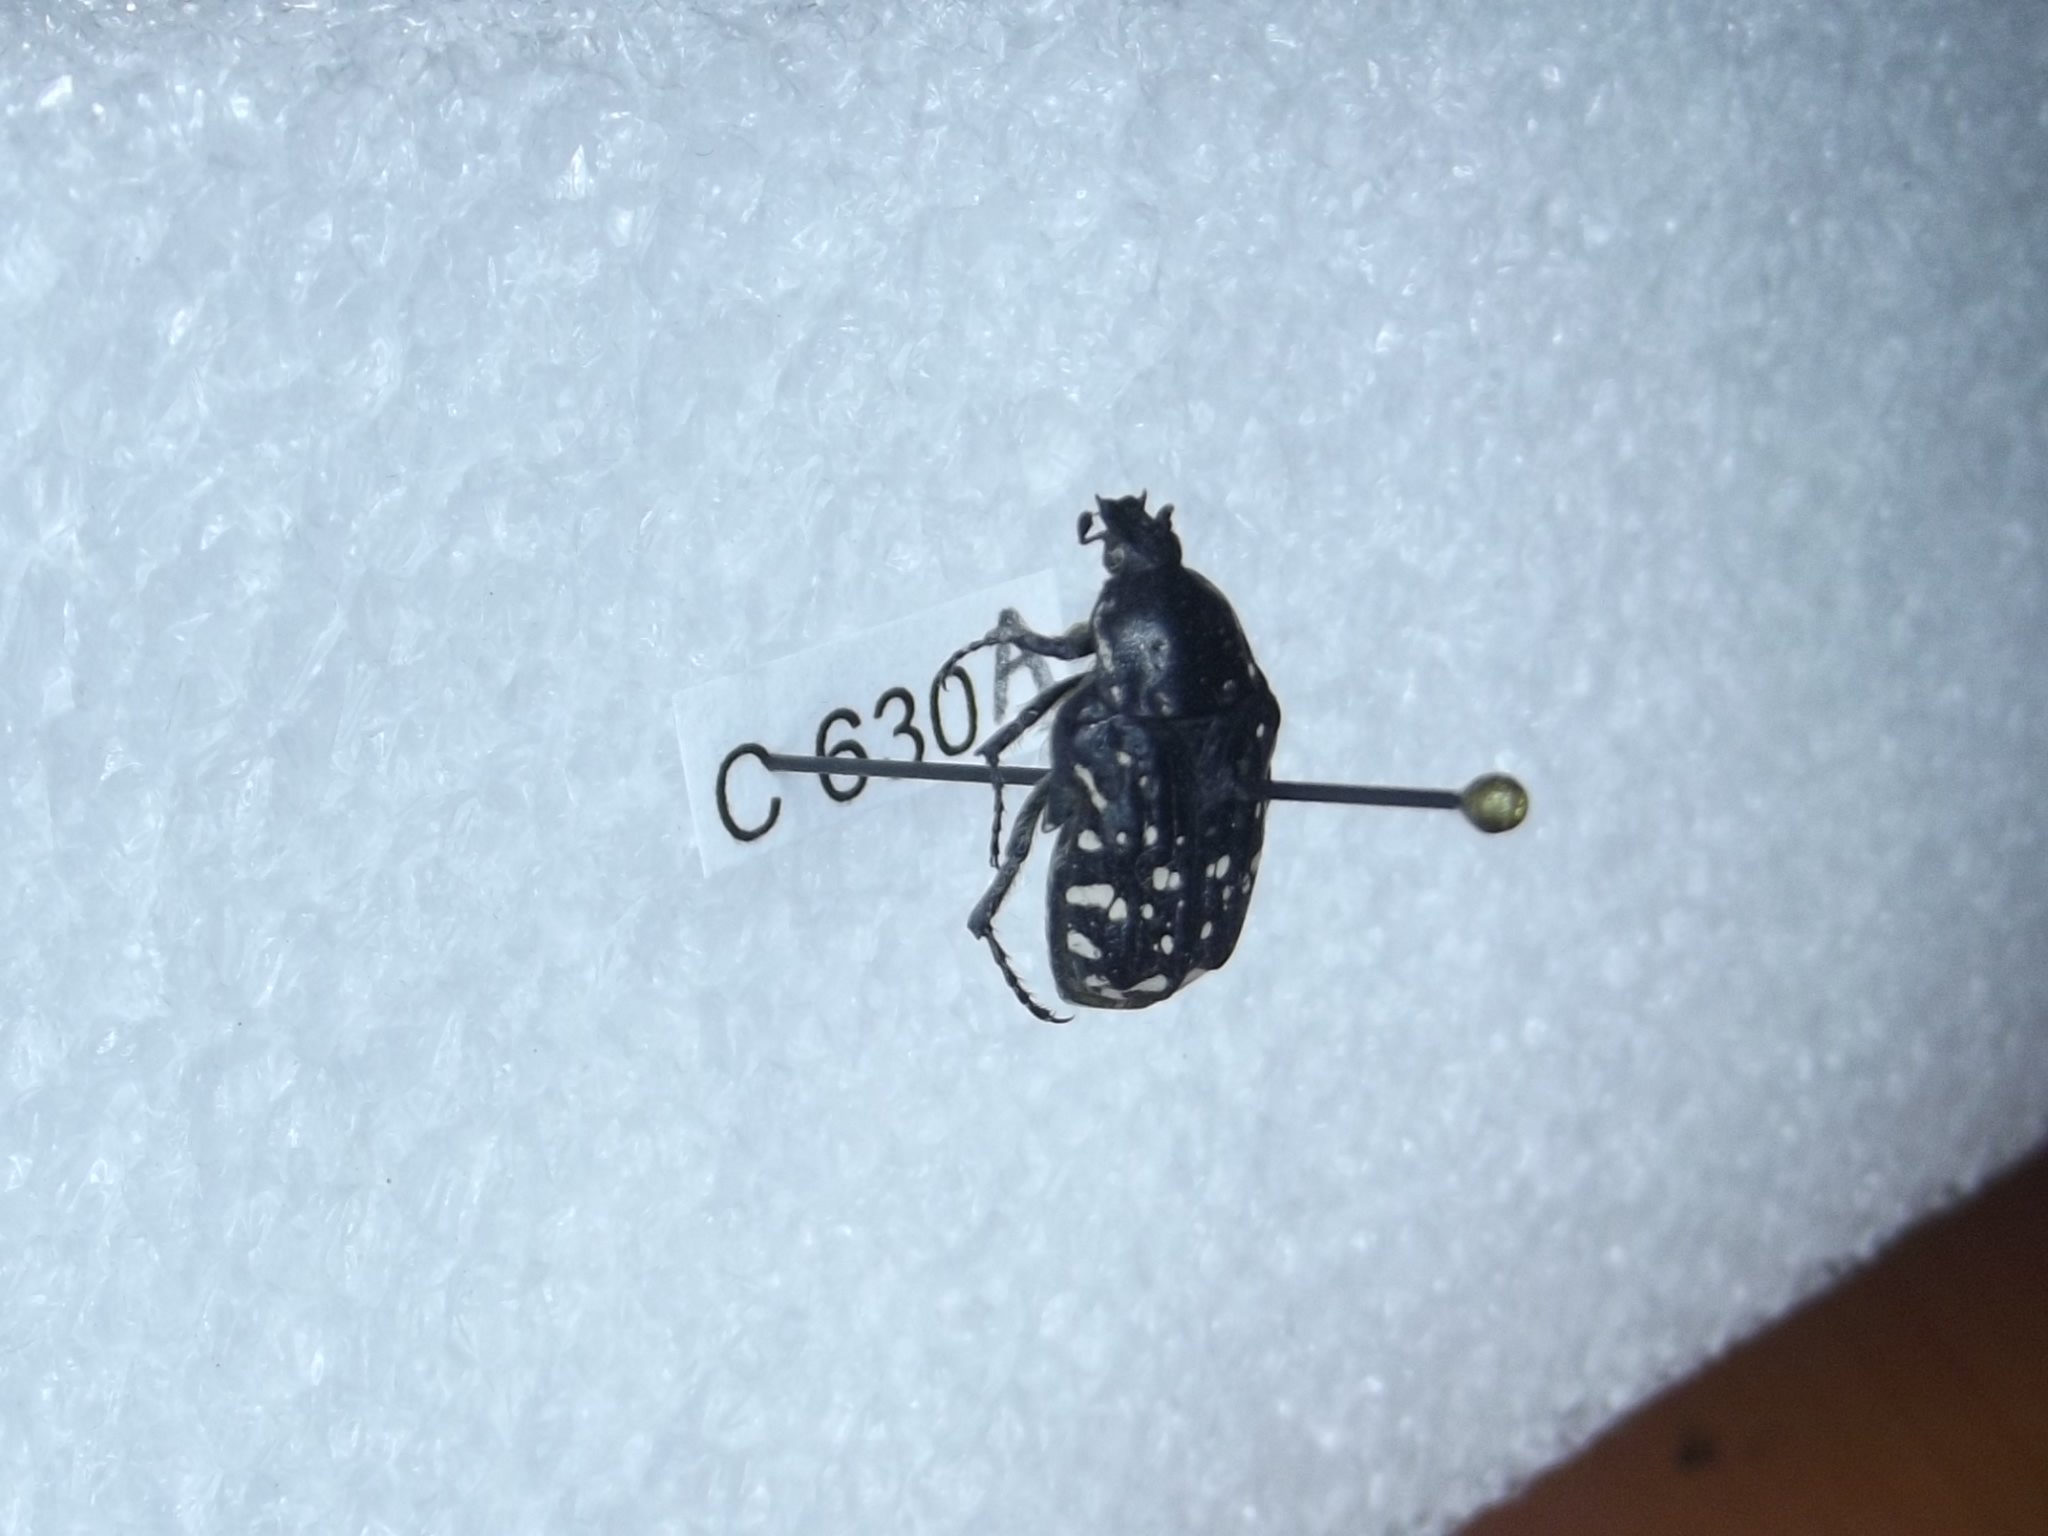Oxythyrea_albopicta: (963, 474, 1324, 1037)
